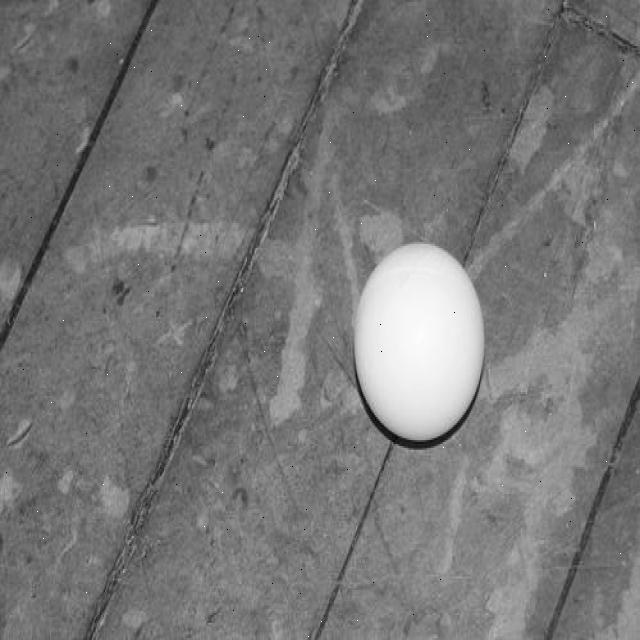ping-pong-ball: (352, 238, 488, 448)
